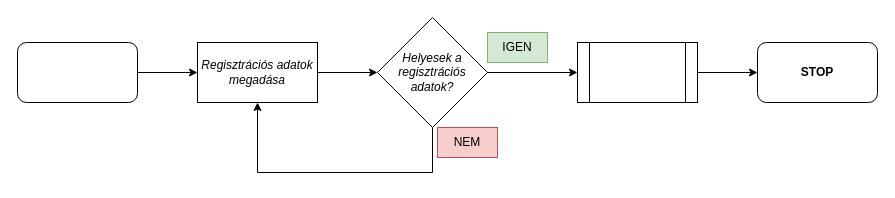
Some shapes in this 895 by 198 pixel diagram are drawn without their labels. Each missing label, with the centre of its shape:
Felhasználó regisztrálása: the point at 637,72
START: the point at 77,72
